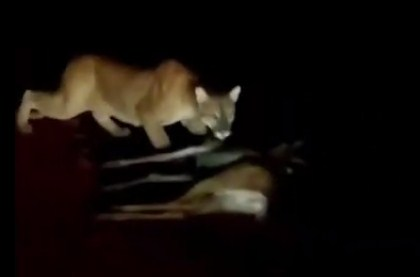OncaParda: (15, 50, 244, 141)
